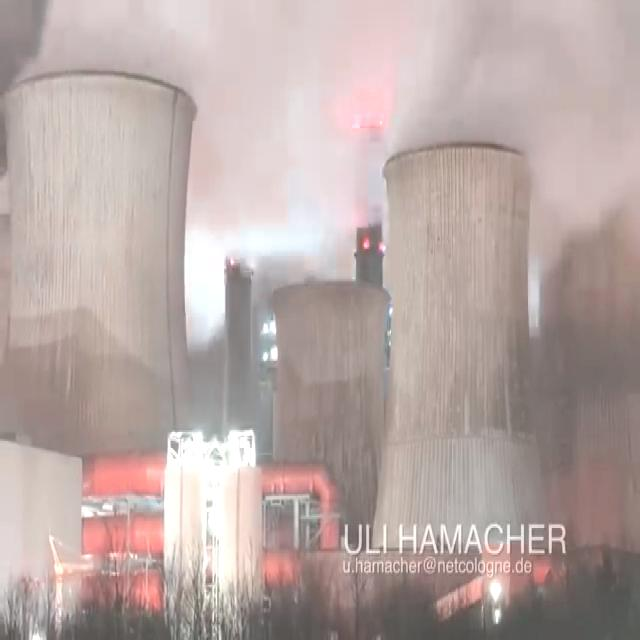smoke: (30, 0, 640, 372)
